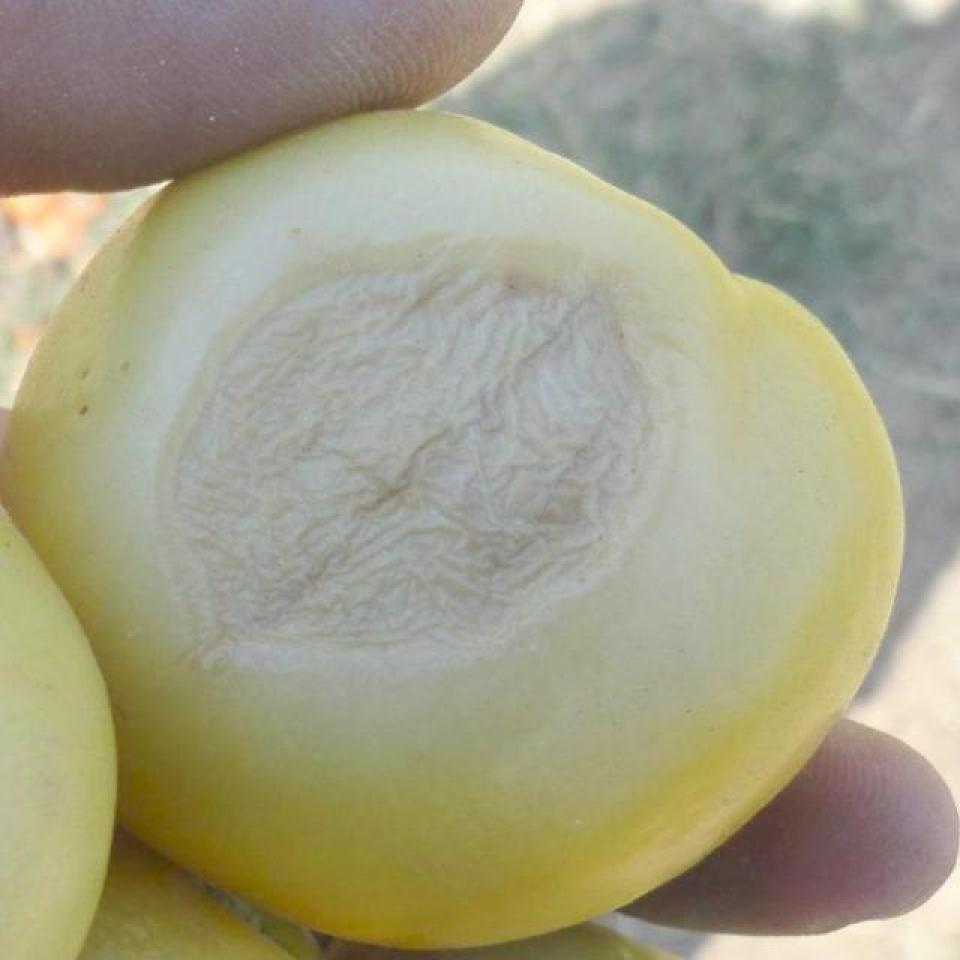Sunscald: (143, 206, 753, 781)
